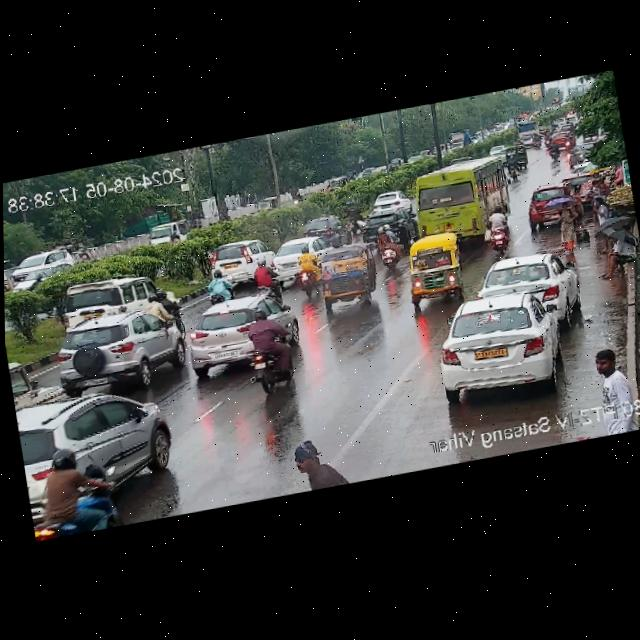bus: (404, 148, 519, 246)
car: (15, 376, 181, 498), (433, 284, 570, 400), (55, 300, 192, 391), (176, 289, 298, 374), (49, 264, 181, 330), (49, 301, 181, 361), (477, 247, 582, 321), (397, 228, 472, 311), (309, 240, 382, 315), (207, 235, 284, 287), (355, 204, 422, 256), (520, 182, 587, 231), (6, 243, 77, 284), (299, 212, 352, 253), (369, 188, 416, 221), (341, 197, 364, 236), (545, 128, 578, 155), (502, 142, 530, 172), (253, 196, 280, 213)
motorcycle: (27, 450, 127, 541), (238, 300, 303, 393), (245, 255, 287, 310), (479, 207, 515, 257), (293, 243, 324, 300), (377, 220, 406, 272), (202, 271, 237, 305), (503, 154, 521, 182), (545, 139, 562, 161), (527, 130, 544, 148)
person: (590, 227, 640, 281), (589, 346, 632, 406), (547, 194, 584, 257), (583, 188, 615, 259)
